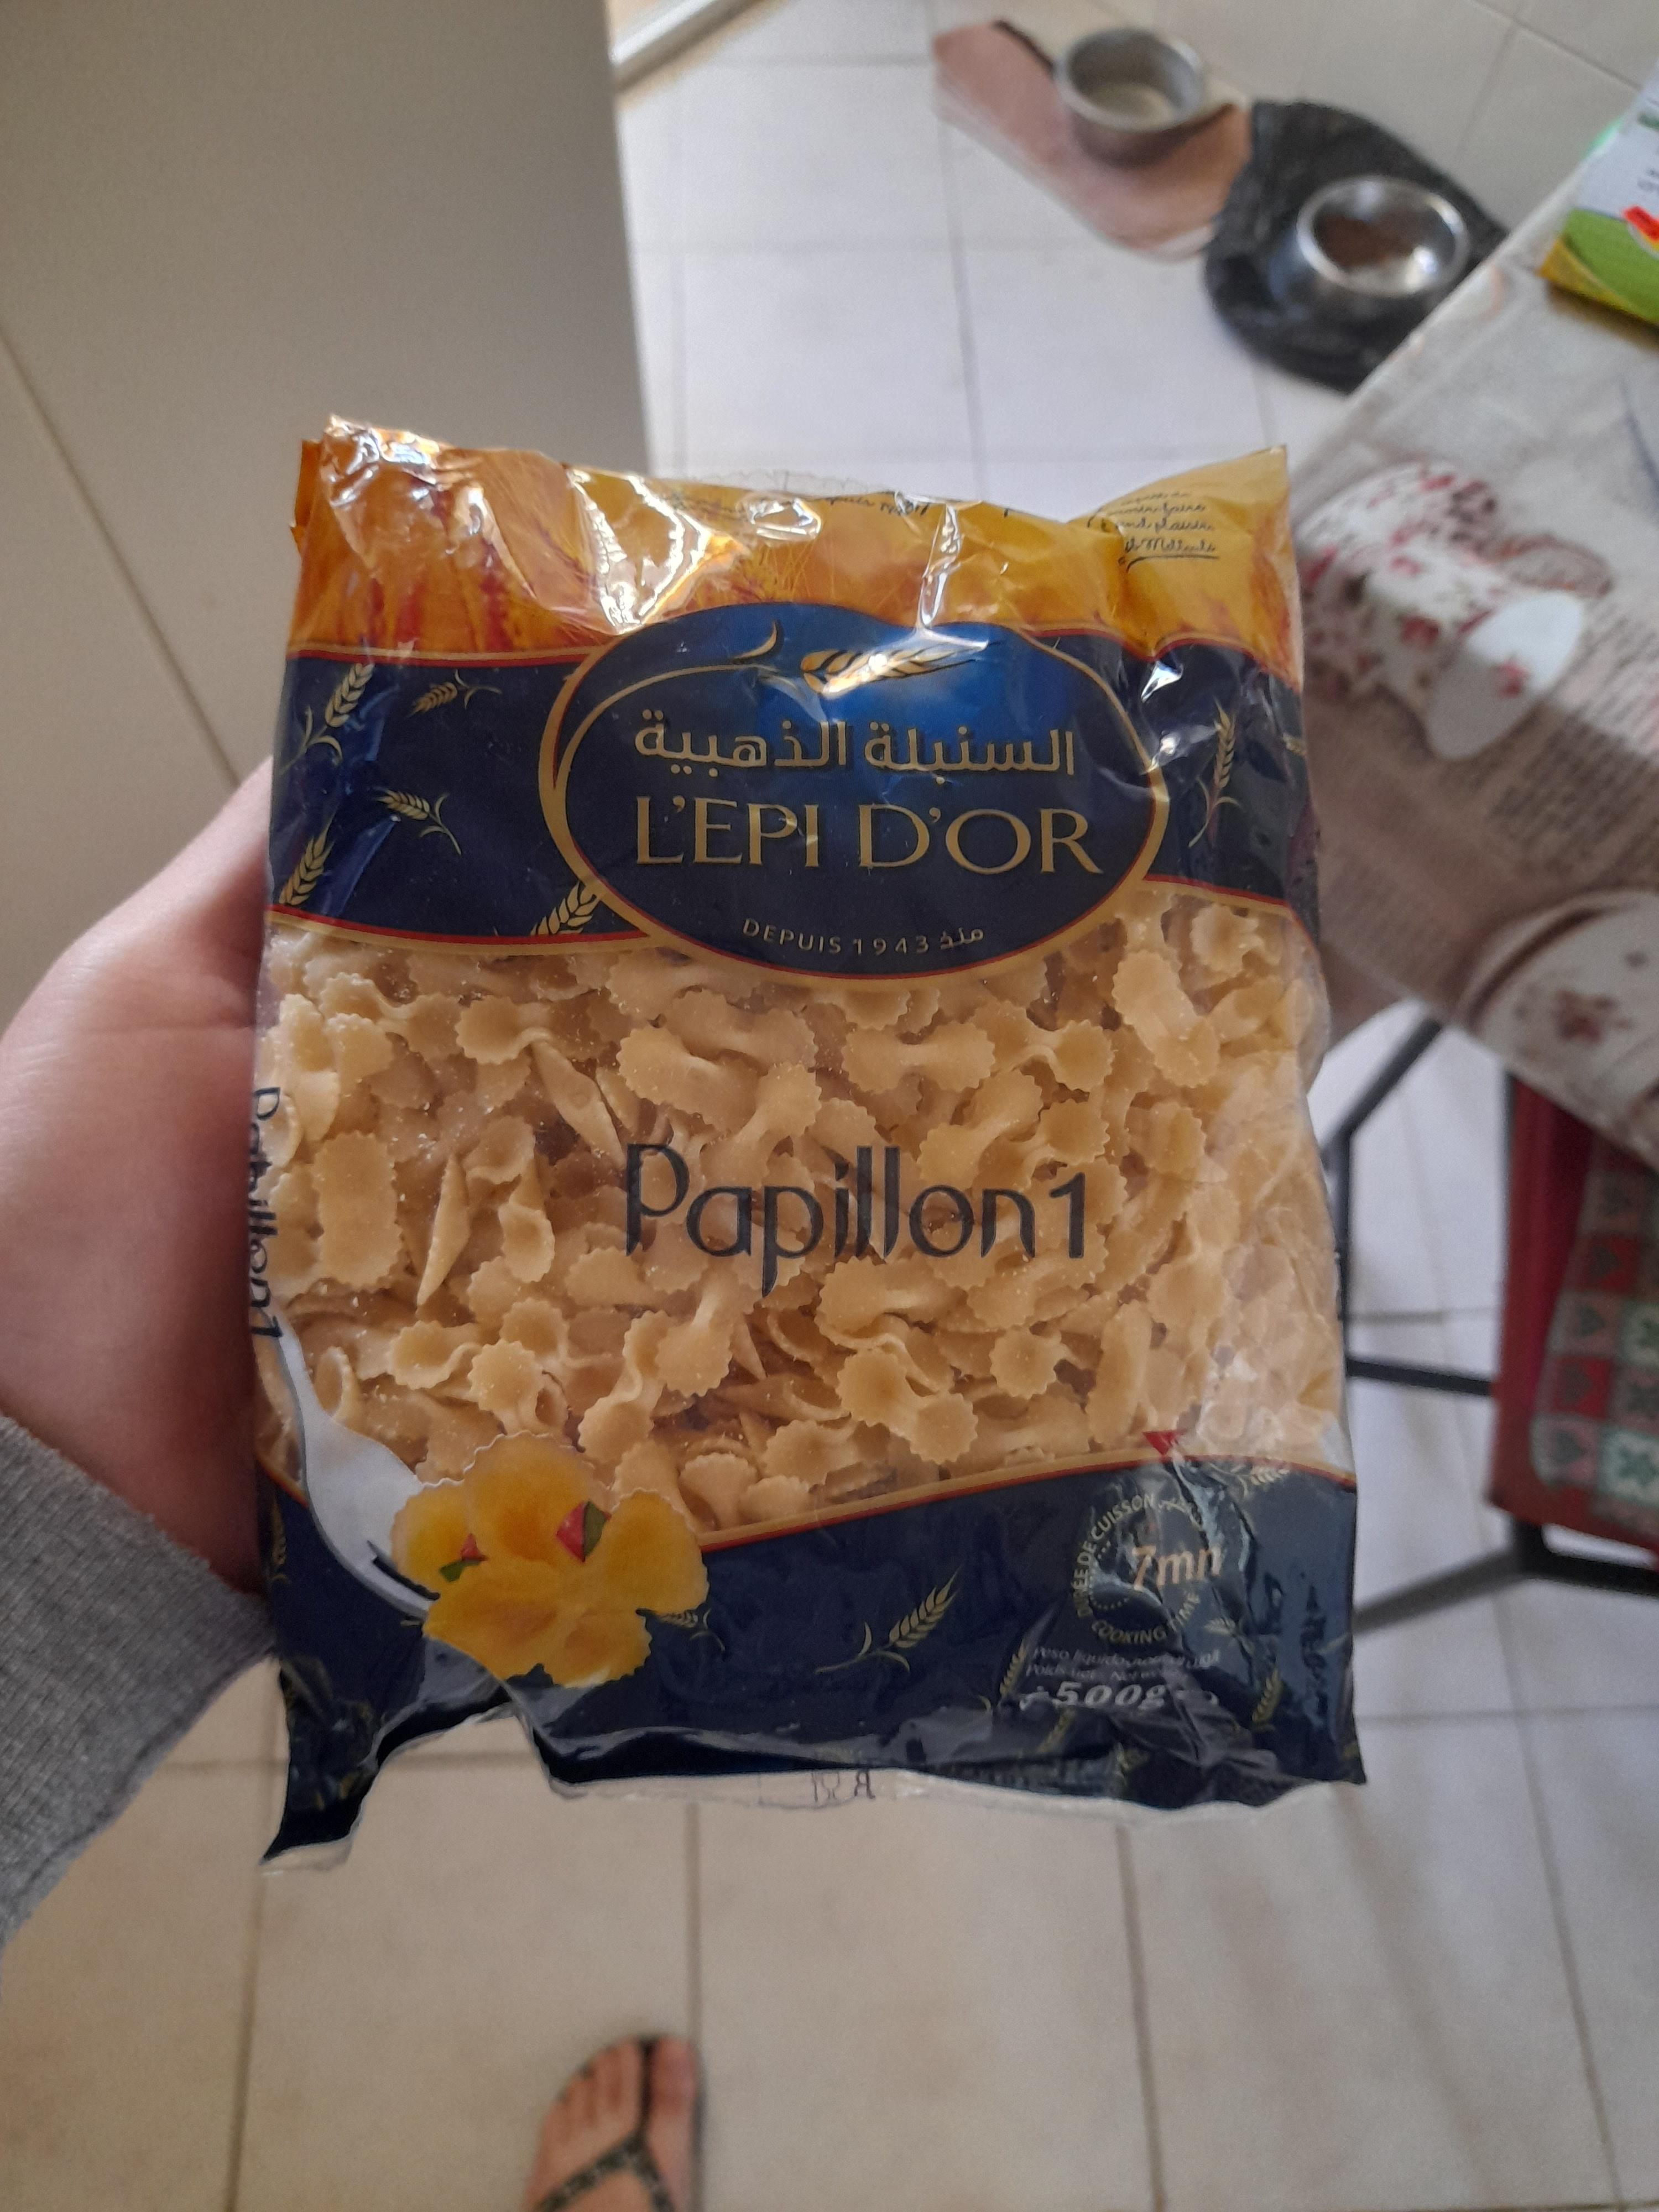Papillon: (234, 578, 974, 2212)
